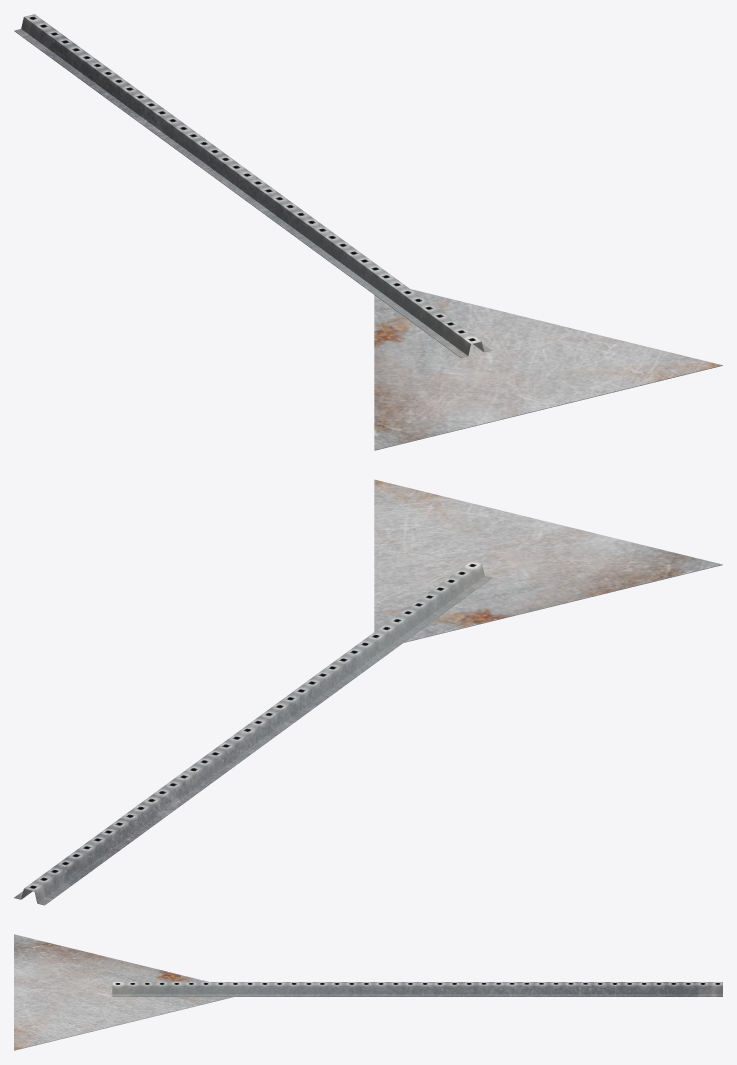
Rendered from way_sign.dae.
3 views of the same model, one above another, from view 1: azimuth 30°, elevation 25°; view 2: azimuth 150°, elevation 25°; view 3: azimuth 270°, elevation 25° (orthographic). The views are drawn at different scales.
Parts seen in each view (by area): view 1: NGon003, Box002; view 2: NGon003, Box002; view 3: NGon003, Box002.
Part boxes in pixels (left/top/right/bottom): NGon003: left=374, top=289, right=722, bottom=450; Box002: left=14, top=14, right=491, bottom=358; NGon003: left=374, top=479, right=722, bottom=642; Box002: left=14, top=561, right=491, bottom=905; NGon003: left=14, top=934, right=233, bottom=1050; Box002: left=112, top=982, right=722, bottom=996.
Size of the model in its own units: 705 by 24.85 by 1819.
Materials: 1 (1 with a texture image).
